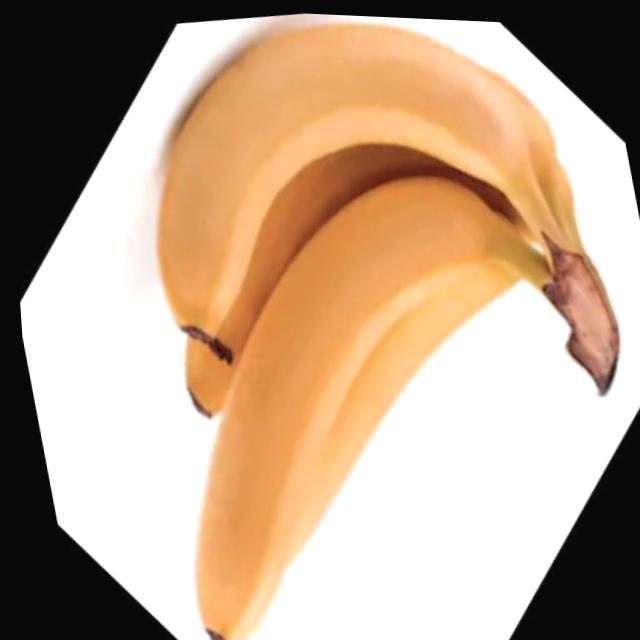Banana: (88, 3, 640, 640)
